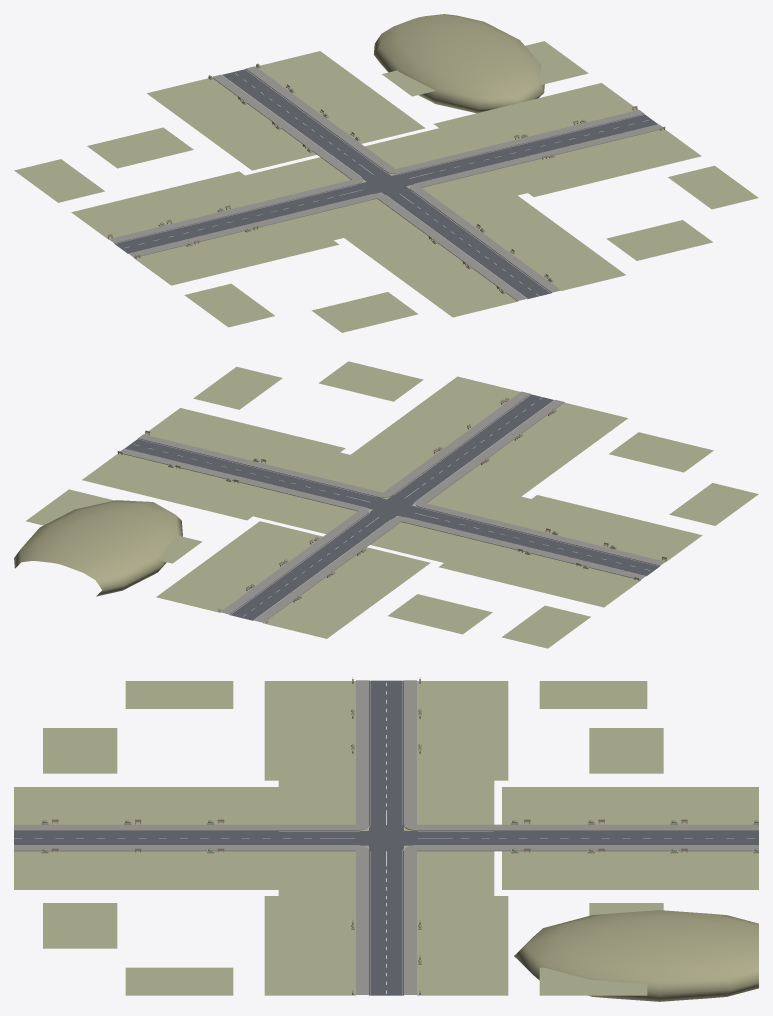
3 renders of one model, top to bottom at view 1: azimuth 30°, elevation 25°; view 2: azimuth 150°, elevation 25°; view 3: azimuth 270°, elevation 25°, orthographic. The views are drawn at different scales.
Visible parts, largest first — view 1: static; view 2: static; view 3: static.
Part boxes in pixels (<box>): static: <box>14,14,758,332</box>; static: <box>14,361,758,648</box>; static: <box>14,677,758,1001</box>.
Size of what is drawn, in the model's own units: 180 by 14.08 by 180.
